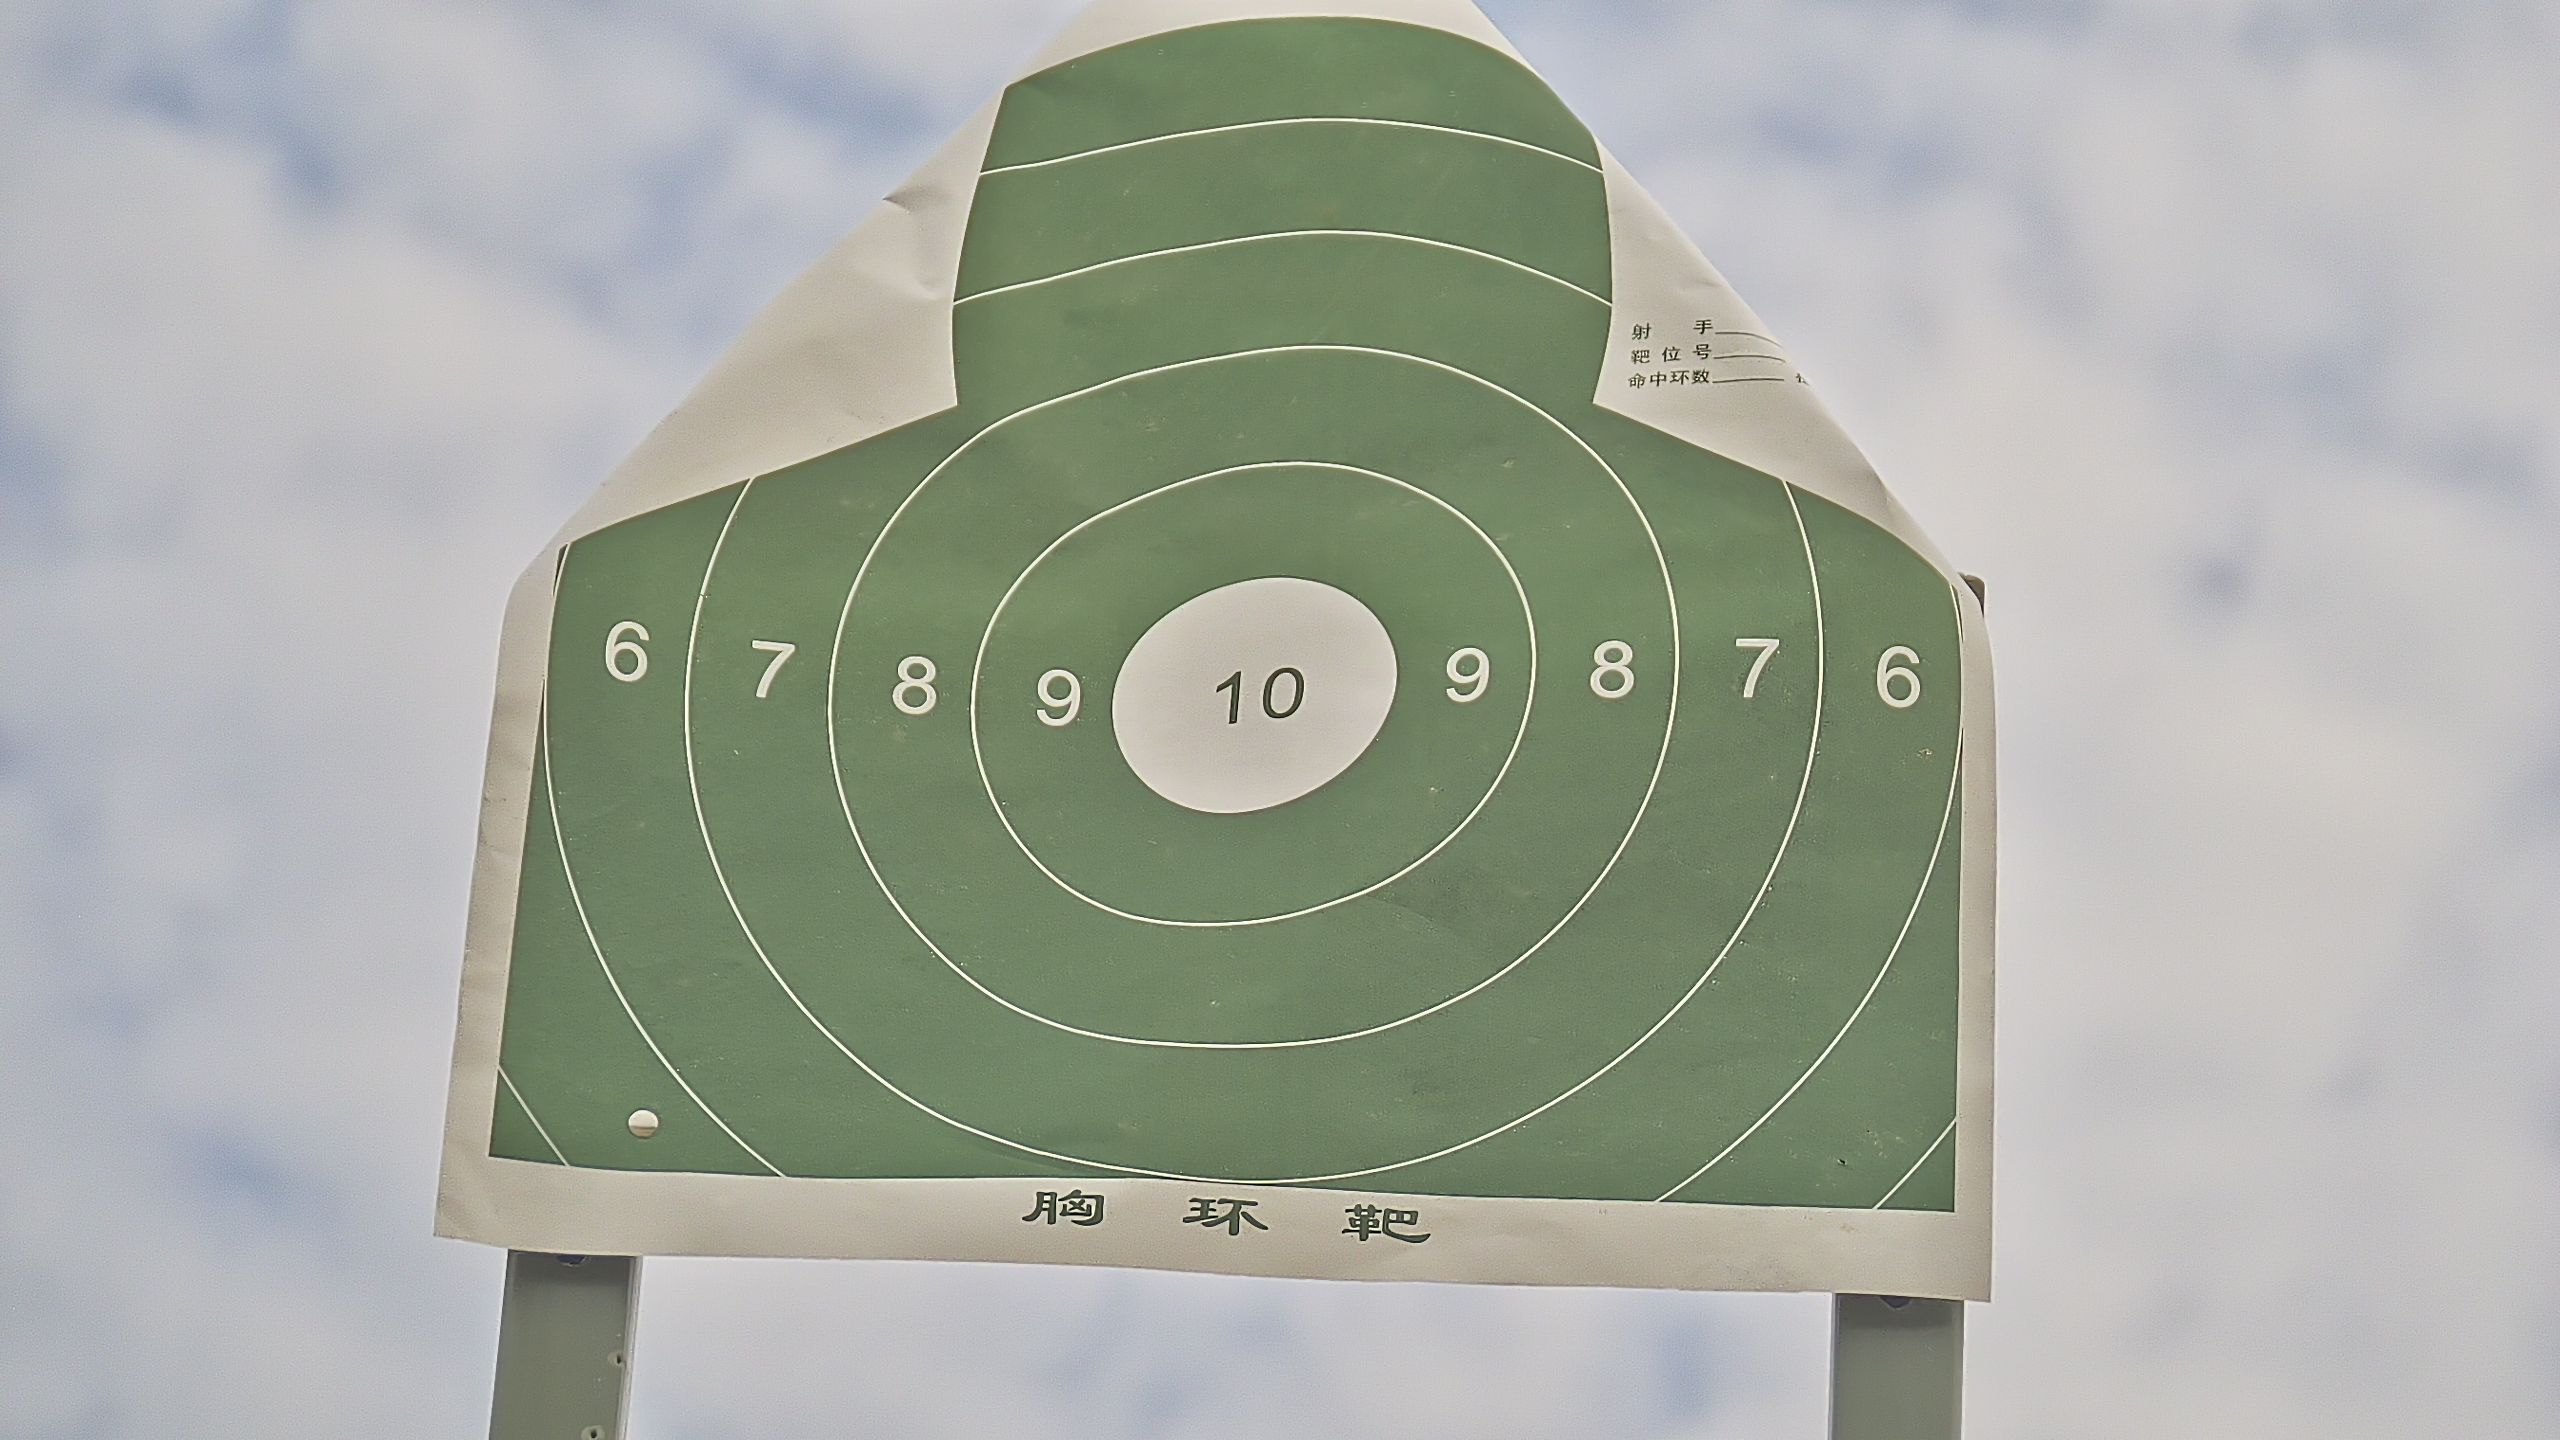kernel: (1245, 689, 1259, 700)
target: (491, 18, 1953, 1222)
ten: (1109, 571, 1398, 818)
